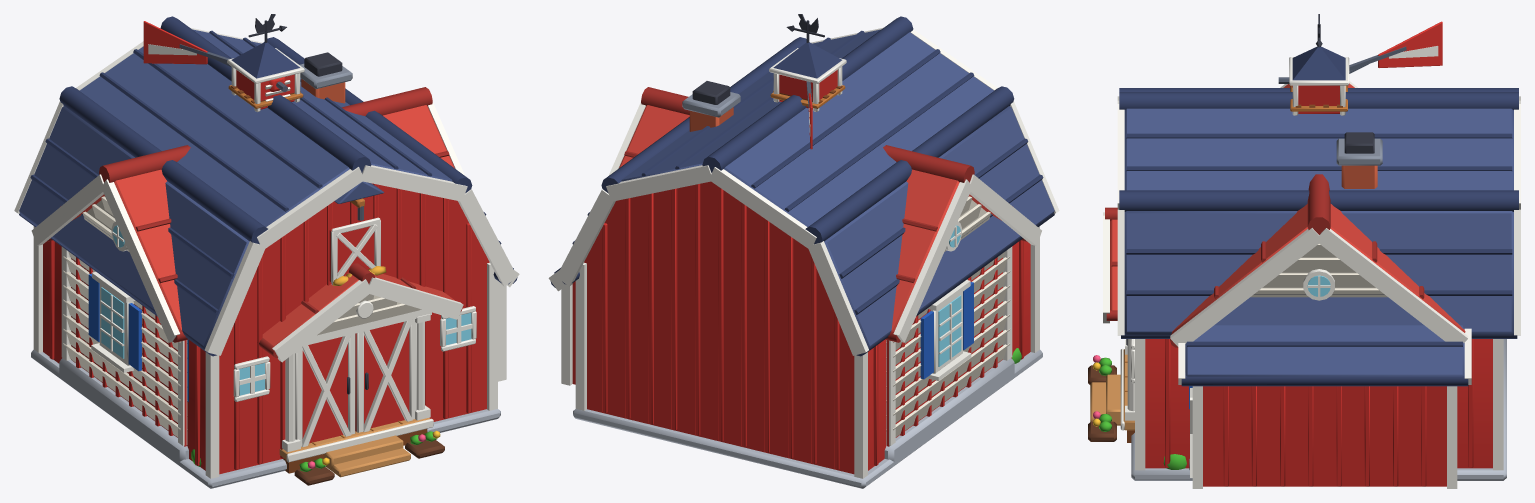
Rendered from rural-lite.glb.
3 views of the same model, side by side, from view 1: azimuth 30°, elevation 25°; view 2: azimuth 150°, elevation 25°; view 3: azimuth 270°, elevation 25° (orthographic). The views are drawn at different scales.
Parts seen in each view (by area): view 1: barn, home_t1, windmill; view 2: barn, home_t1, windmill; view 3: barn, home_t1, windmill.
Boxes of the visible parts, left/top/right/bottom form: barn: left=14, top=14, right=519, bottom=488; home_t1: left=31, top=52, right=464, bottom=485; windmill: left=143, top=21, right=303, bottom=108; barn: left=548, top=14, right=1059, bottom=488; home_t1: left=608, top=81, right=1041, bottom=461; windmill: left=770, top=81, right=845, bottom=149; barn: left=1117, top=14, right=1520, bottom=488; home_t1: left=1088, top=81, right=1468, bottom=469; windmill: left=1278, top=21, right=1442, bottom=111.
Size of the model in its own units: 7.27 by 8.69 by 7.49.
